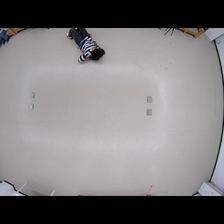fall: (66, 27, 106, 62)
